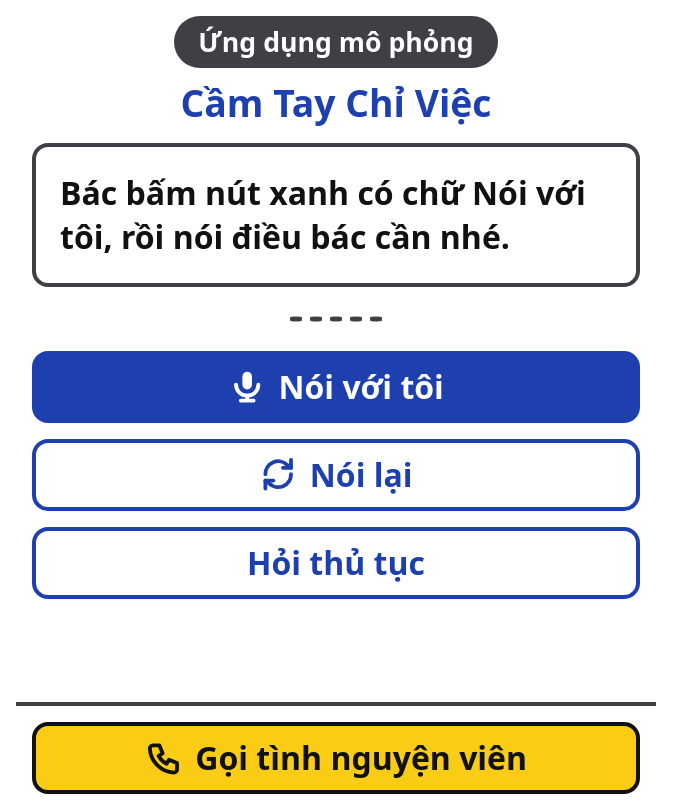
it: điều hướng theo dấu # › trang đầu có nút Hỏi thủ tục, bấm thì sang màn hỏi
Click the button with test id "hoi-thu-tuc-button" at (336, 563), box top-left (32, 527), bottom-right (640, 599)
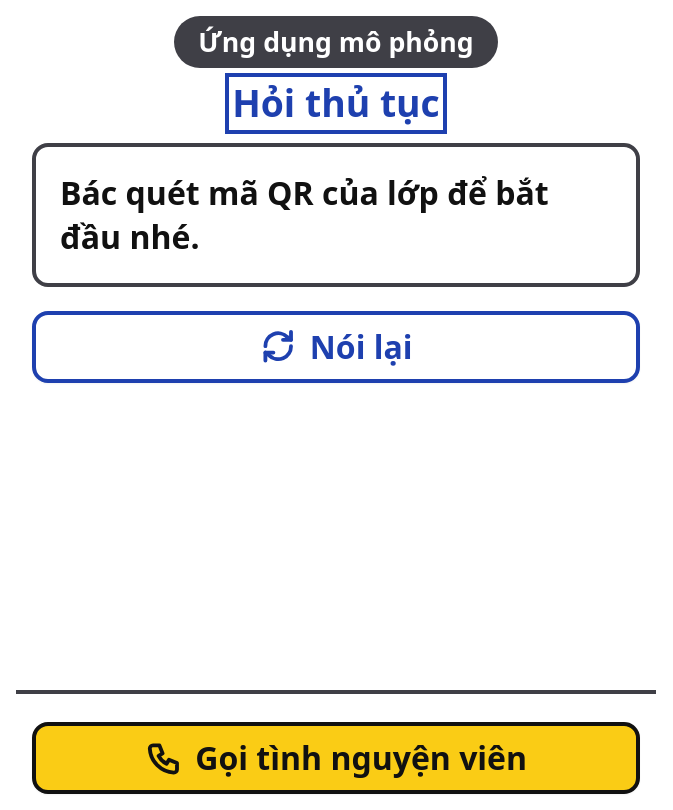
Result: the heading reads "Hỏi thủ tục" at top-left (232, 77), bottom-right (440, 128)
Result: the text "Bác quét mã QR của lớp để bắt đầu nhé." is shown at top-left (32, 143), bottom-right (640, 287)
